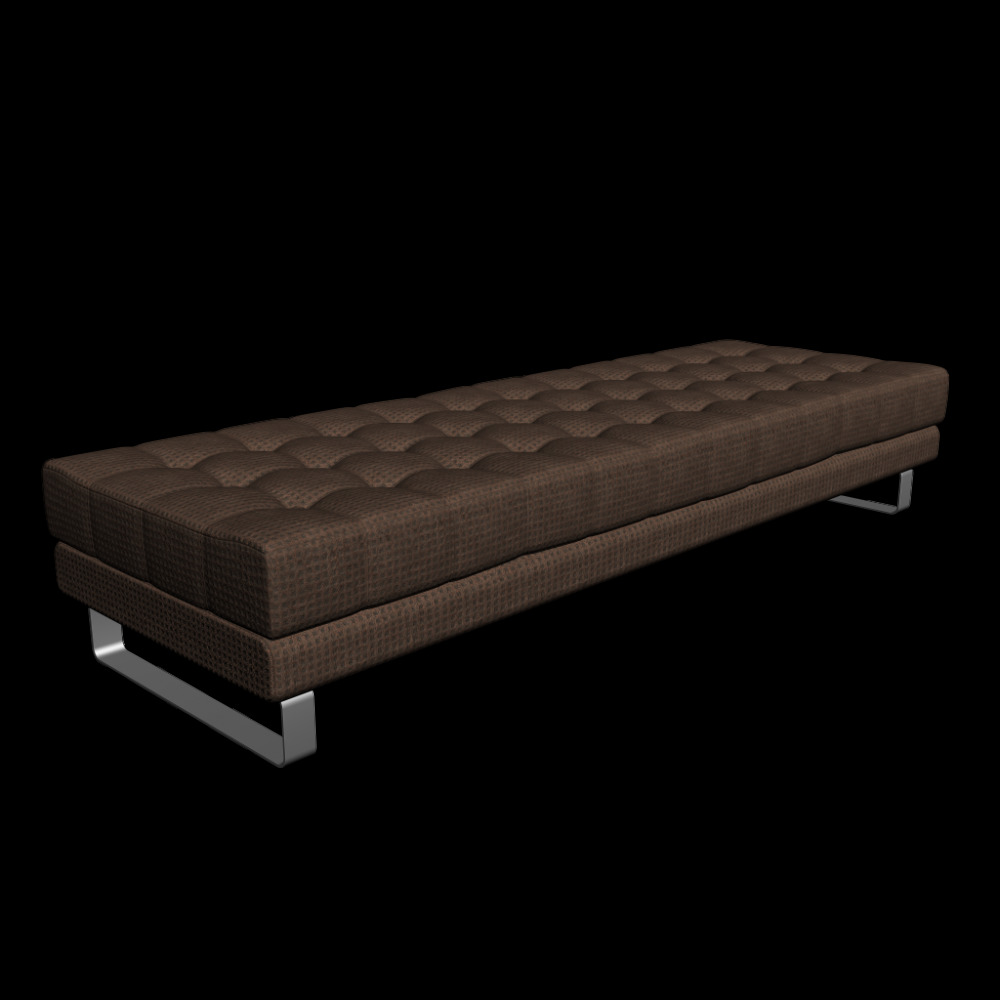chairs: (36, 343, 953, 769)
